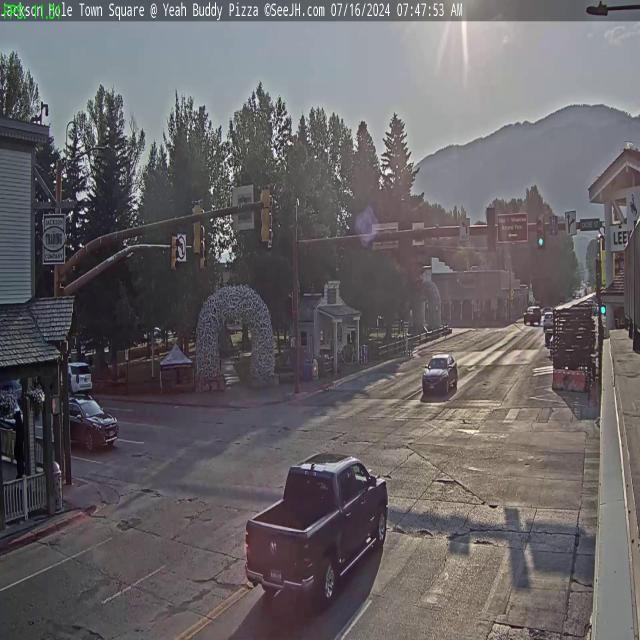pickup: (242, 447, 391, 630)
suv: (52, 395, 118, 452), (422, 351, 458, 396), (63, 360, 94, 397)
traffic light: (260, 182, 273, 245), (190, 198, 203, 254), (169, 232, 180, 278), (486, 207, 496, 252), (536, 214, 544, 248)
